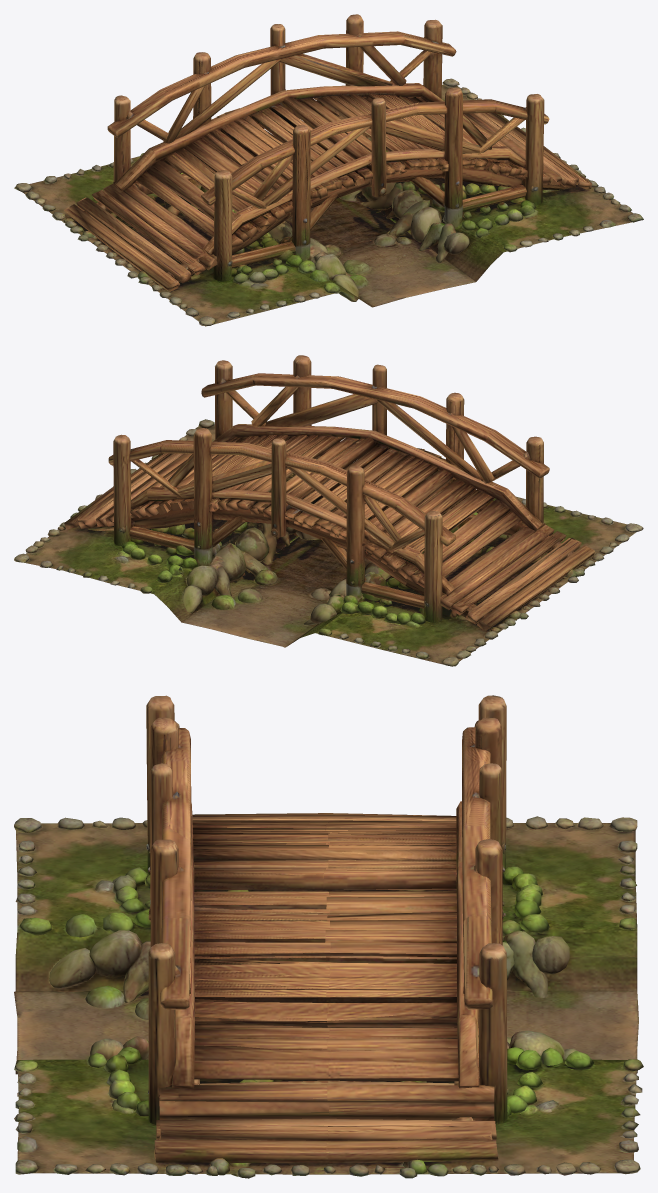
The model's file is Meshy_AI_Wooden_Arch_Bridge_0721143257_texture.fbx.
3 renders of one model, top to bottom at view 1: azimuth 30°, elevation 25°; view 2: azimuth 150°, elevation 25°; view 3: azimuth 270°, elevation 25°, orthographic. The views are drawn at different scales.
Visible parts, largest first — view 1: mesh_node; view 2: mesh_node; view 3: mesh_node.
Part boxes in pixels (x1,y1,x2,y2): mesh_node: [14, 14, 643, 326]; mesh_node: [14, 355, 643, 666]; mesh_node: [14, 695, 643, 1178].
Bounding box in the file's own units: 100 × 36.13 × 74.41.
Materials: 1 (1 with a texture image).
